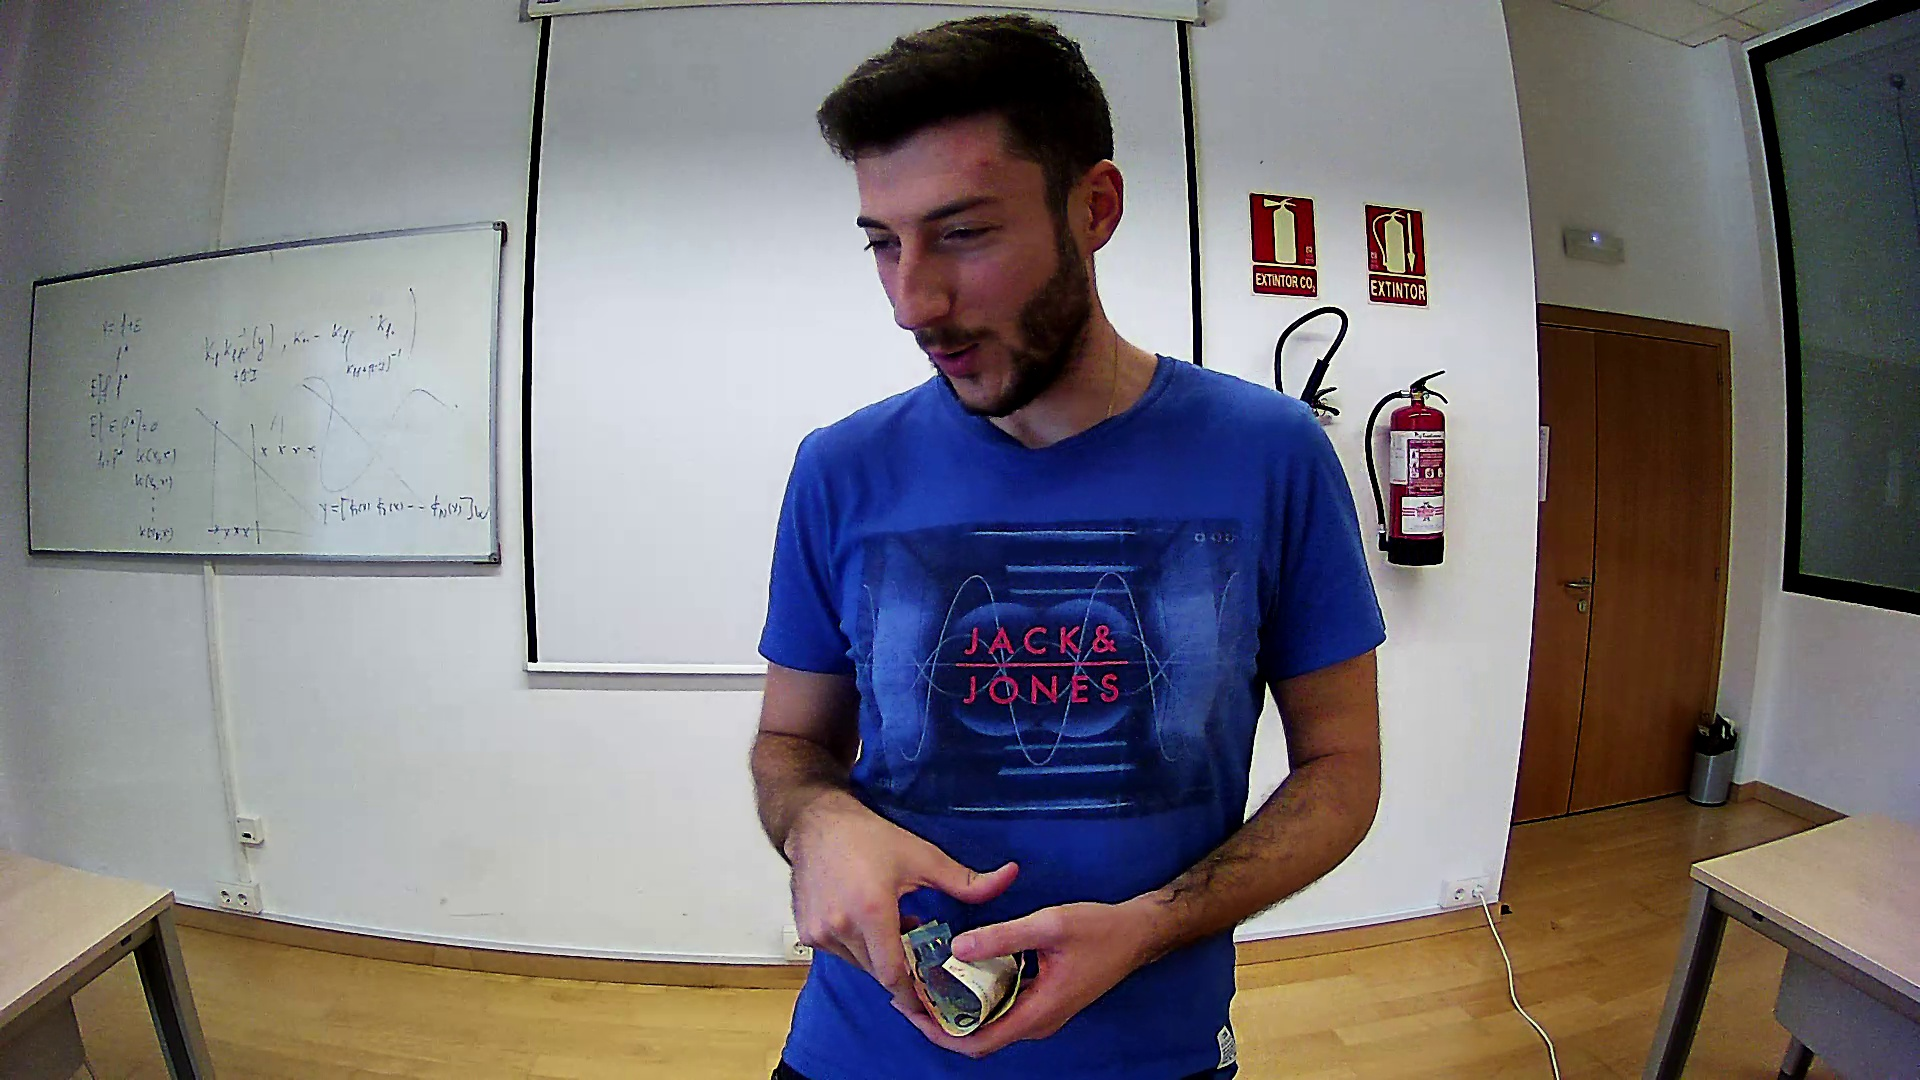billete: (899, 918, 1029, 1038)
